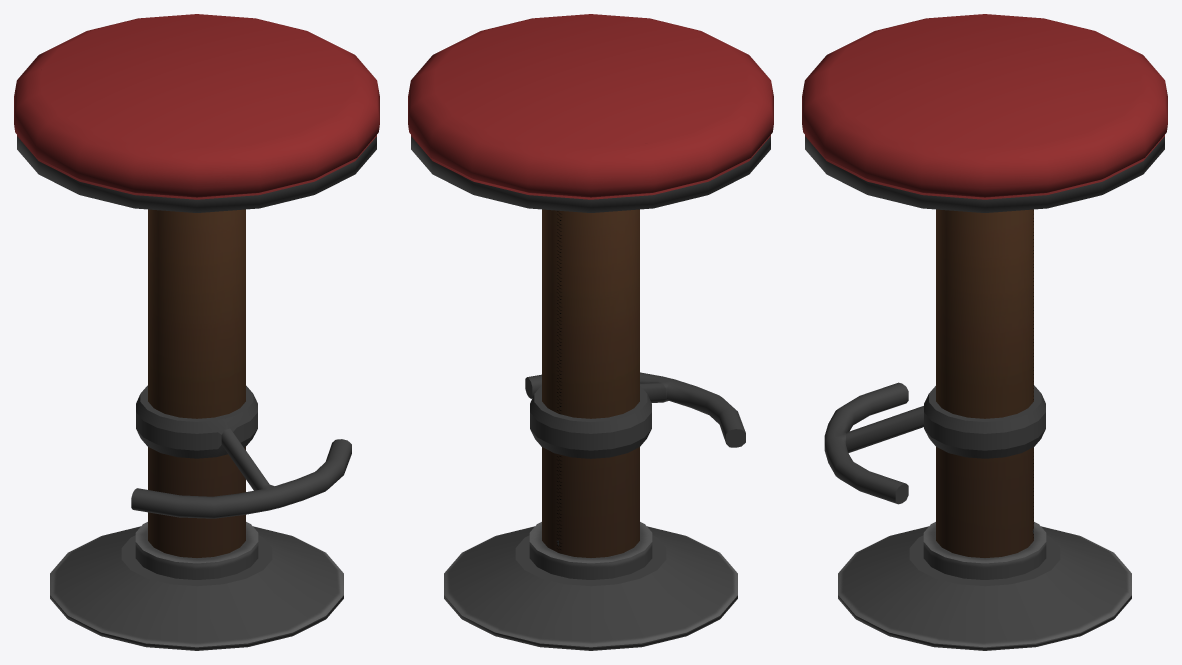
The model's file is StoolModel 1.fbx.
3 renders of one model, left to right at view 1: azimuth 30°, elevation 25°; view 2: azimuth 150°, elevation 25°; view 3: azimuth 270°, elevation 25°, orthographic.
Parts seen in each view (by area): view 1: StoolSeat, StoolLeg, StoolFoot, FootRest; view 2: StoolSeat, StoolLeg, StoolFoot, FootRest; view 3: StoolSeat, StoolLeg, StoolFoot, FootRest.
Boxes of the visible parts, x1,y1,x2,y2 form: StoolSeat: (14,14,379,212); StoolLeg: (148,209,245,557); StoolFoot: (50,522,343,650); FootRest: (131,385,351,518); StoolSeat: (408,14,773,212); StoolLeg: (542,209,639,557); StoolFoot: (444,522,737,650); FootRest: (525,372,745,458); StoolSeat: (802,14,1167,212); StoolLeg: (936,209,1033,557); StoolFoot: (838,522,1131,650); FootRest: (824,382,1045,504).
Bounding box in the file's own units: 0.3272 × 0.4925 × 0.3222.
1 material, 1 textured.
